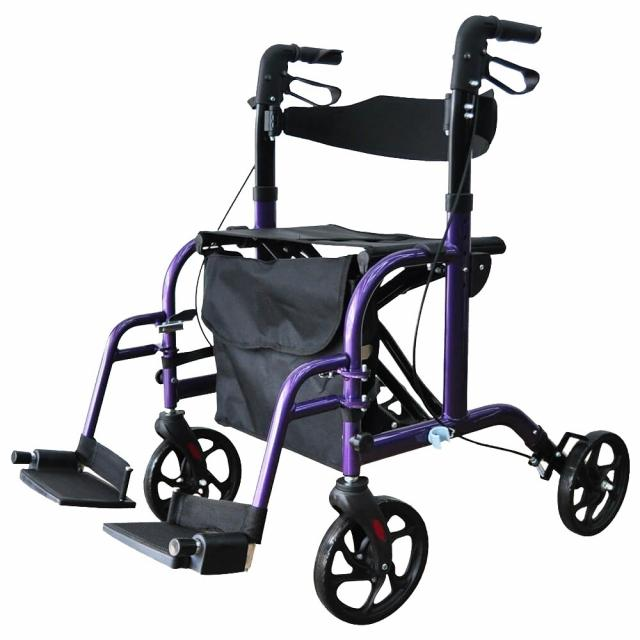wheelchair: (4, 4, 640, 630)
